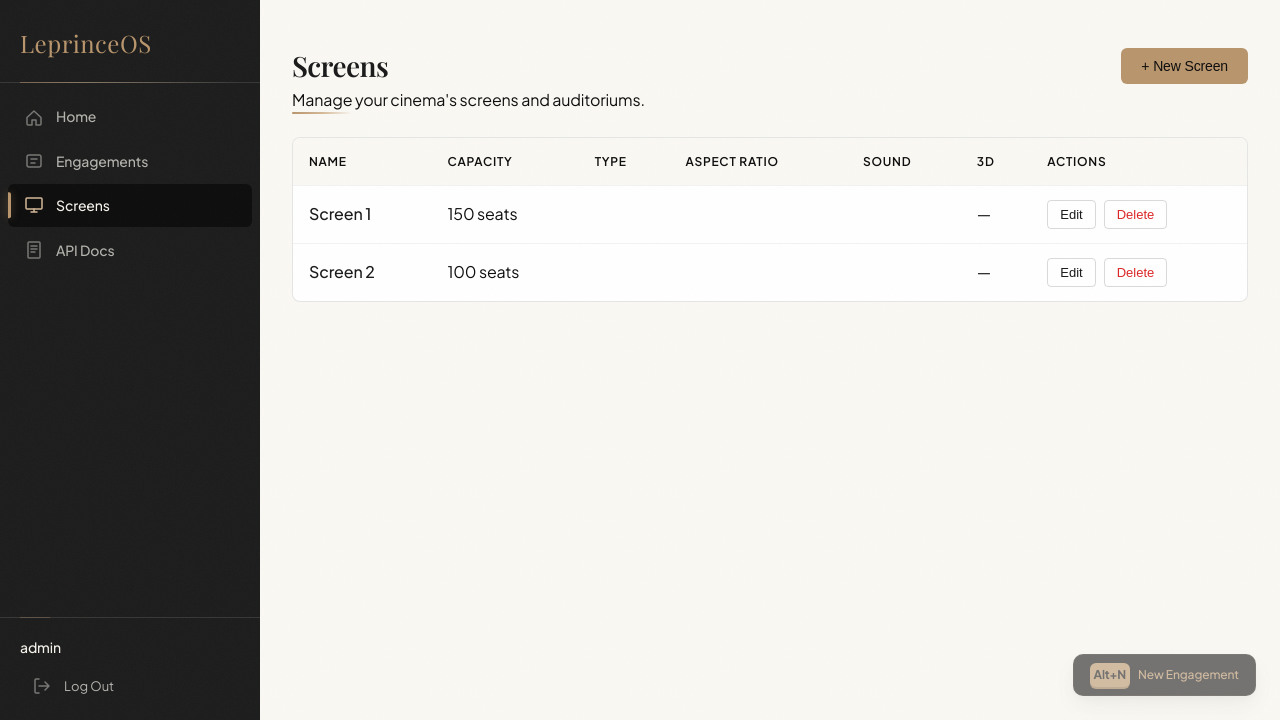
Screens CRUD Operations › Create Screen › should open create drawer when clicking New Screen button
The image size is (1280, 720).
# Click New Screen button
Click the button "+ New Screen" at (1185, 66), box [1121,48,1248,84]
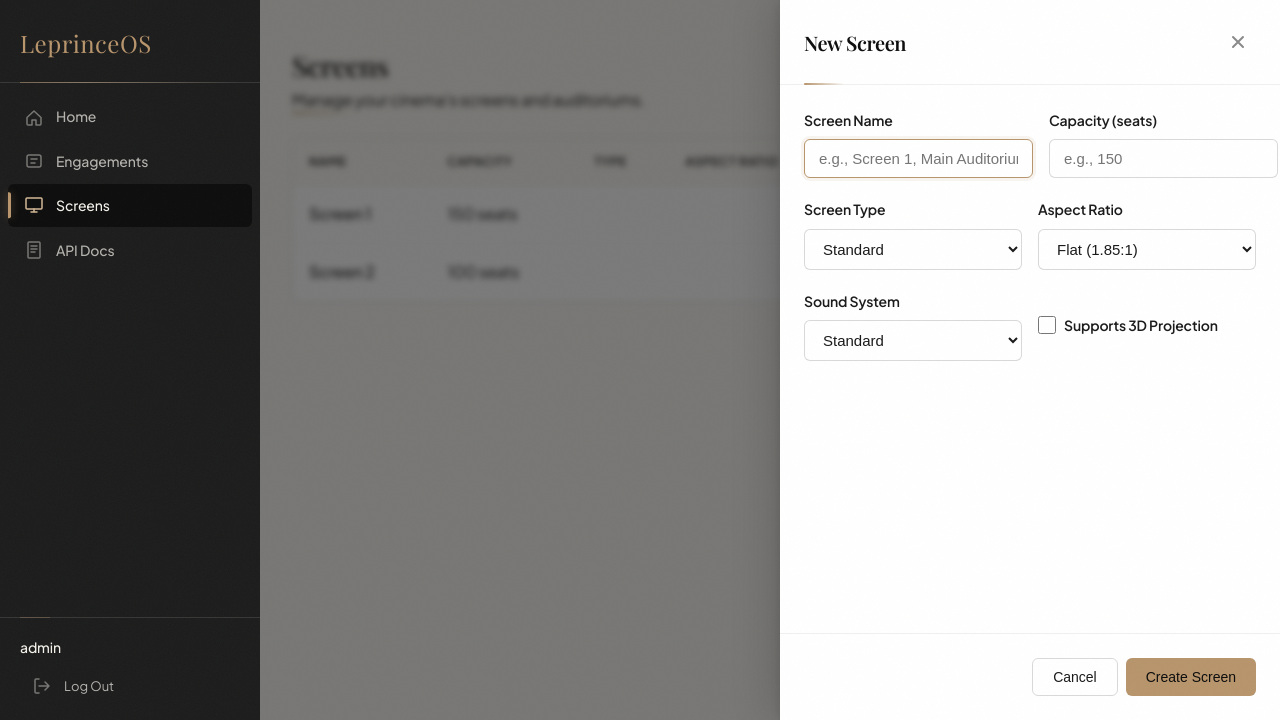
Result: the text "Screen Name" is shown at [804,111,893,129]
Result: the text "Capacity (seats)" is shown at [1049,111,1157,129]
Result: the text "Screen Type" is shown at [804,200,886,218]
